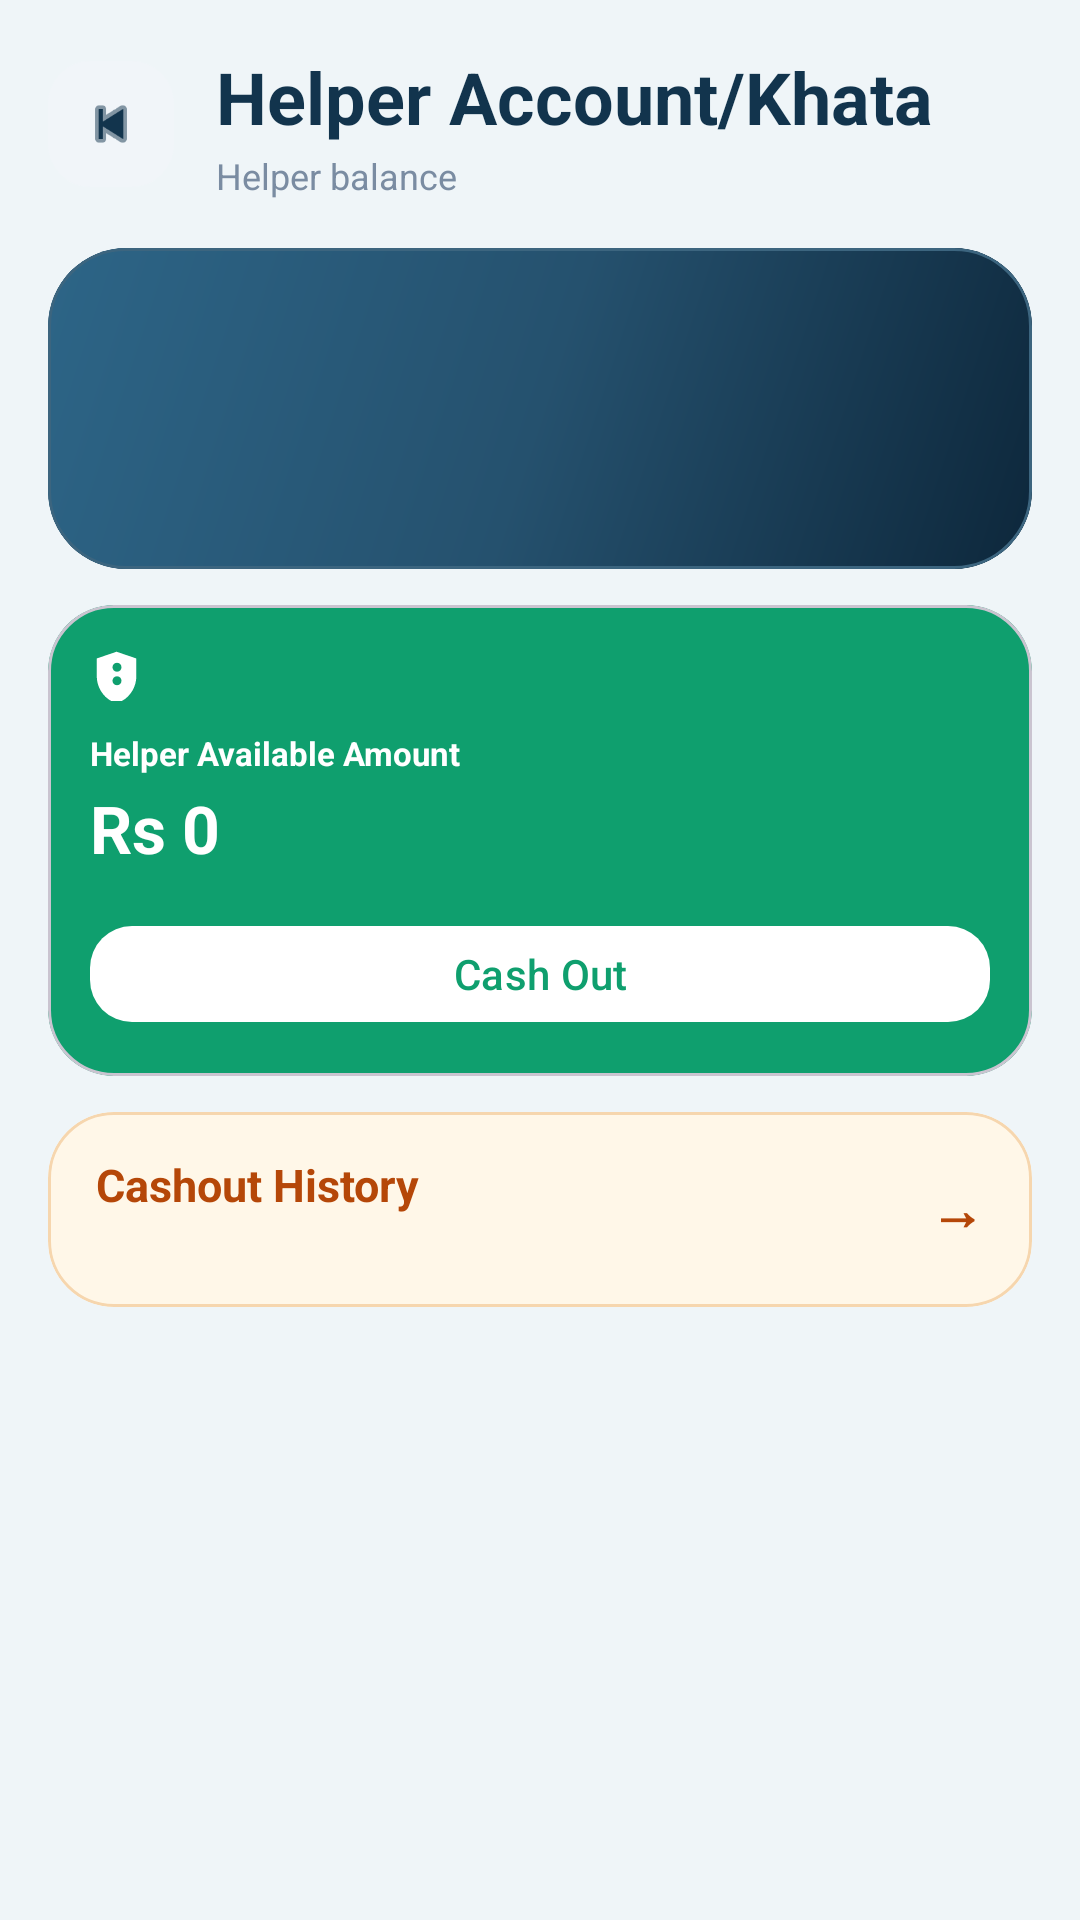

Locate icon controls on the screen. Image size 1080 x 1920, boxes as (x1,y1,x2,y2).
Back: (95,105,127,143)
